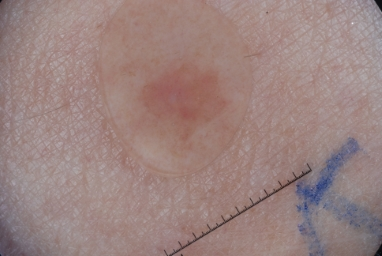seborrheic keratosis: (137, 53, 239, 142)
